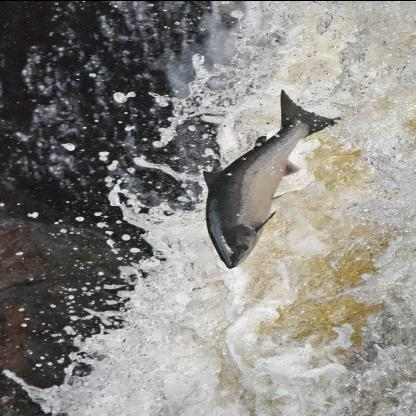fish: (200, 88, 340, 268)
